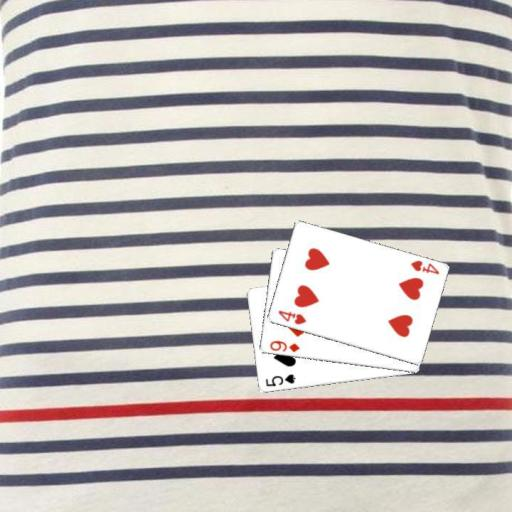4H: (275, 308, 307, 327), (408, 257, 440, 276)
5S: (262, 371, 297, 388)
9D: (266, 338, 301, 353)
